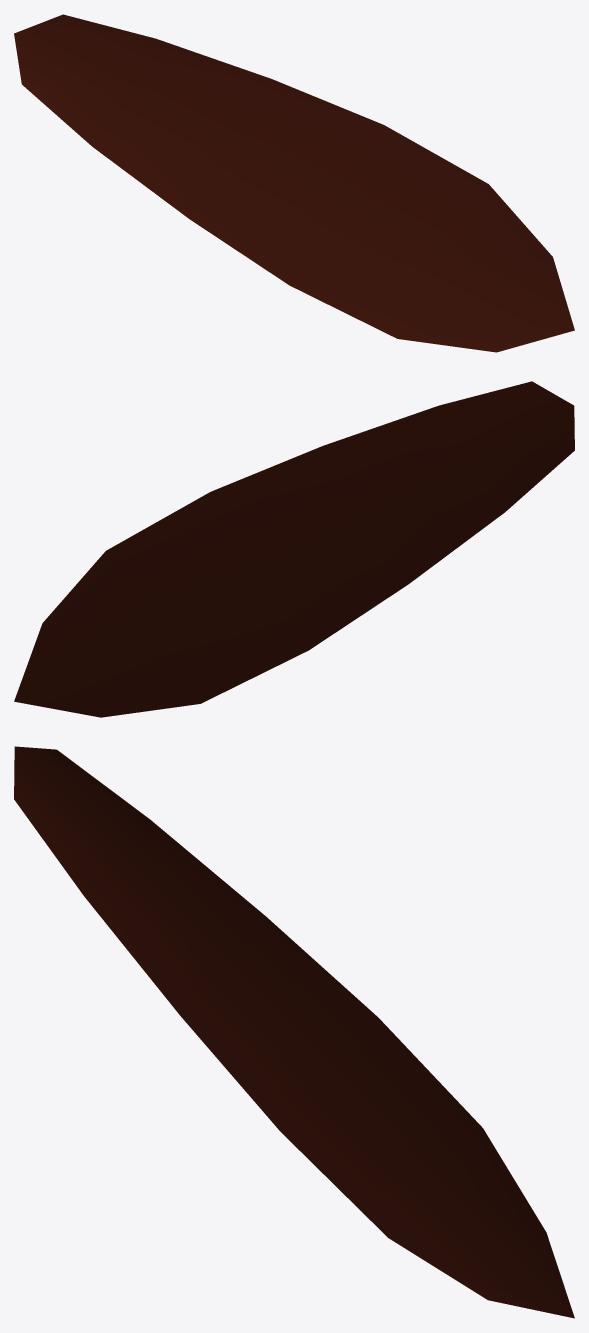
File: pheasant_feather_flight_secondary_040.obj
3 views of the same model, one above another, from view 1: azimuth 30°, elevation 25°; view 2: azimuth 150°, elevation 25°; view 3: azimuth 330°, elevation 25° (orthographic).
Visible parts, largest first — view 1: feather_flight_secondary_040; view 2: feather_flight_secondary_040; view 3: feather_flight_secondary_040.
Part boxes in pixels (x1,y1,x2,y2): feather_flight_secondary_040: (14,14,574,352); feather_flight_secondary_040: (14,381,574,717); feather_flight_secondary_040: (14,746,574,1318).
Bounding box in the file's own units: 0.0539 × 0.0408 × 0.000937.
